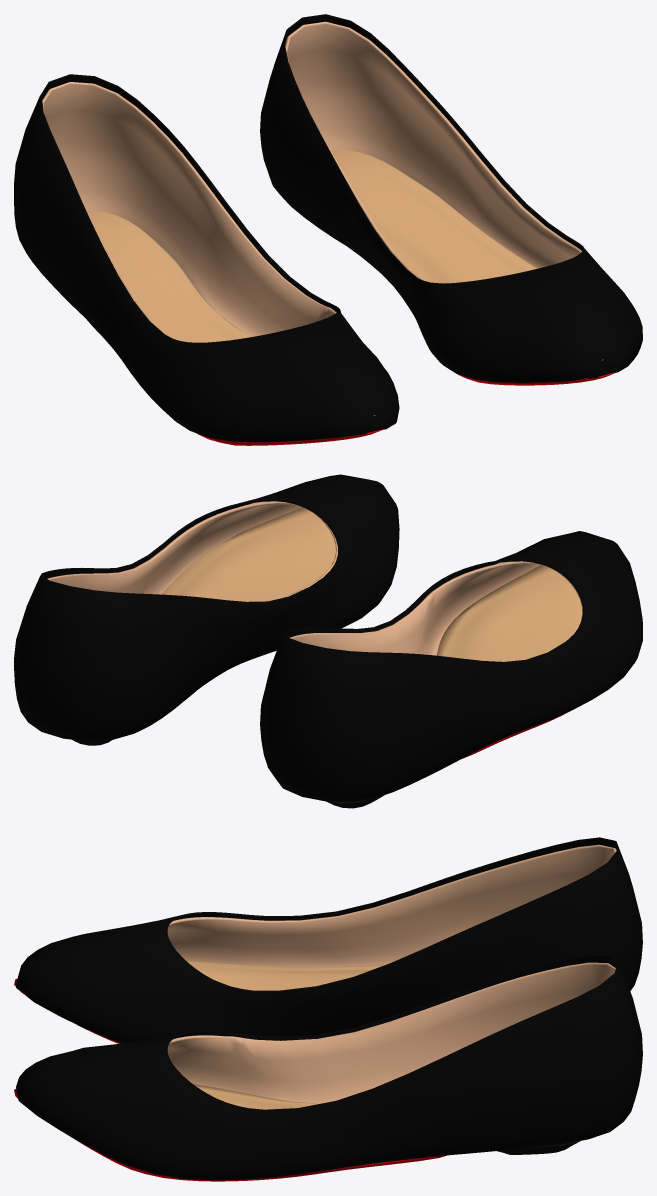
3 renders of one model, top to bottom at view 1: azimuth 30°, elevation 25°; view 2: azimuth 150°, elevation 25°; view 3: azimuth 270°, elevation 25°, orthographic.
Visible parts, largest first — view 1: curve_object1.002, curve_object1; view 2: curve_object1.002, curve_object1; view 3: curve_object1, curve_object1.002.
Boxes of the visible parts, x1,y1,x2,y2 form: curve_object1.002: (14,74,399,445); curve_object1: (260,14,642,385); curve_object1.002: (260,531,642,808); curve_object1: (14,474,399,745); curve_object1: (14,955,642,1181); curve_object1.002: (14,837,642,1043).
Size of the model in its own units: 160 by 62.2 by 200.
